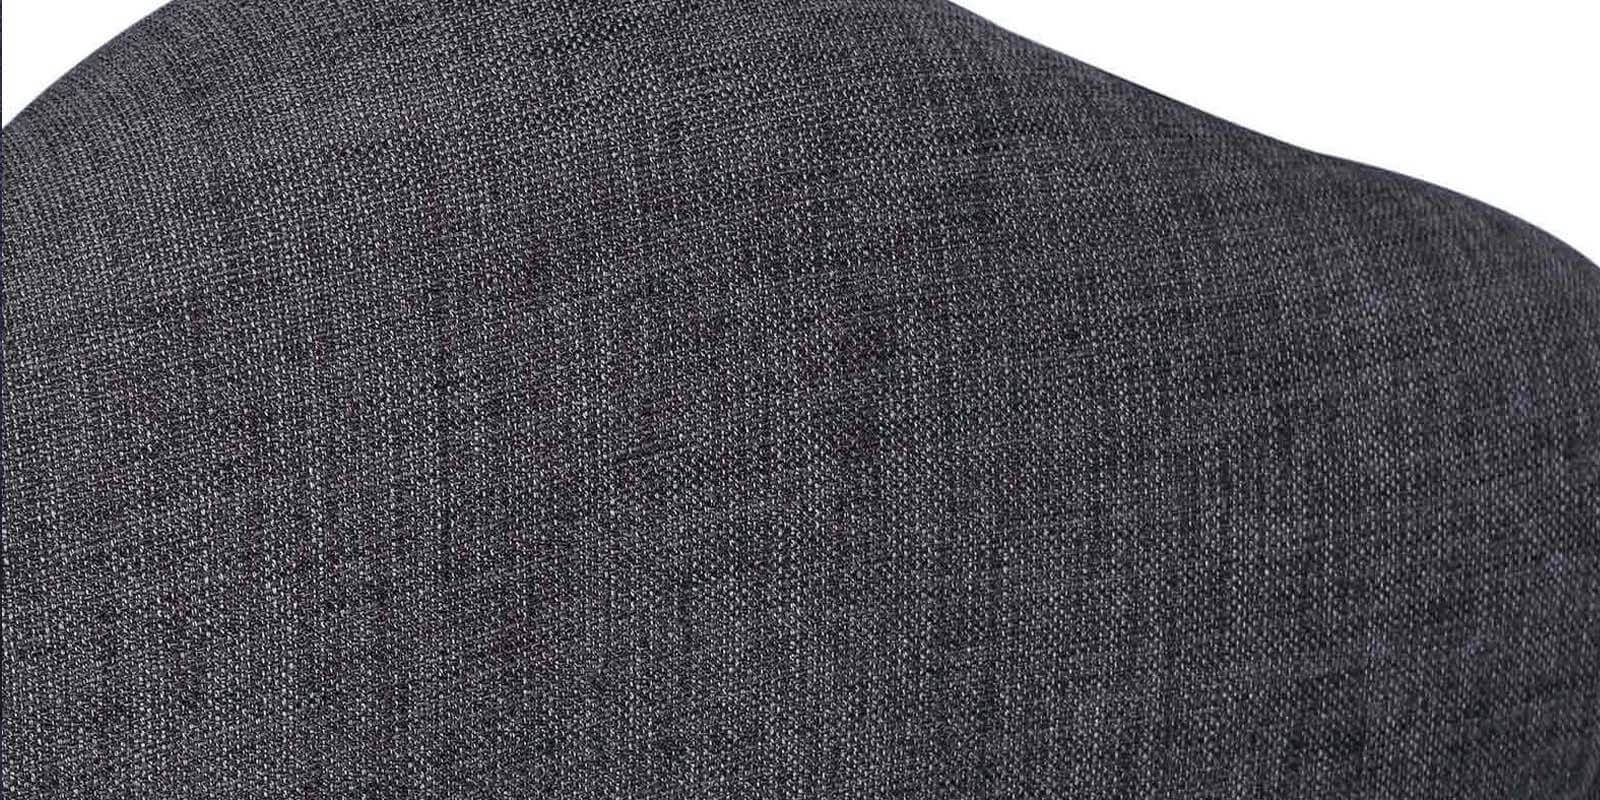Harleston Three Seater Sofa in Provincial Teak Finish by Amberville: (5, 1, 1582, 799)
